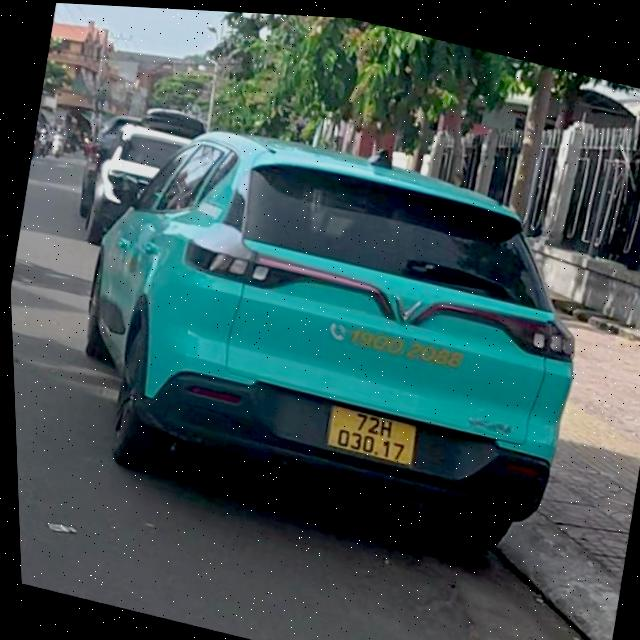car: (47, 94, 614, 584)
plate: (314, 394, 425, 477)
